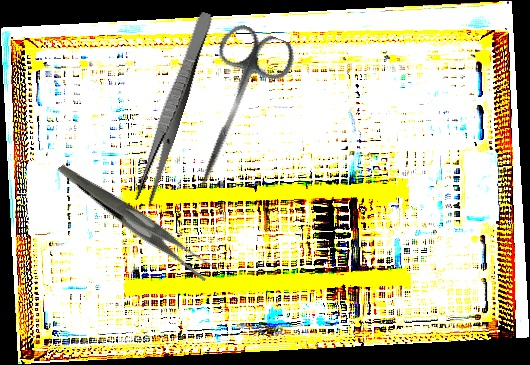Dressing Forceps: (56, 127, 219, 313), (133, 9, 215, 206)
Iris Scissors: (169, 19, 300, 201)
